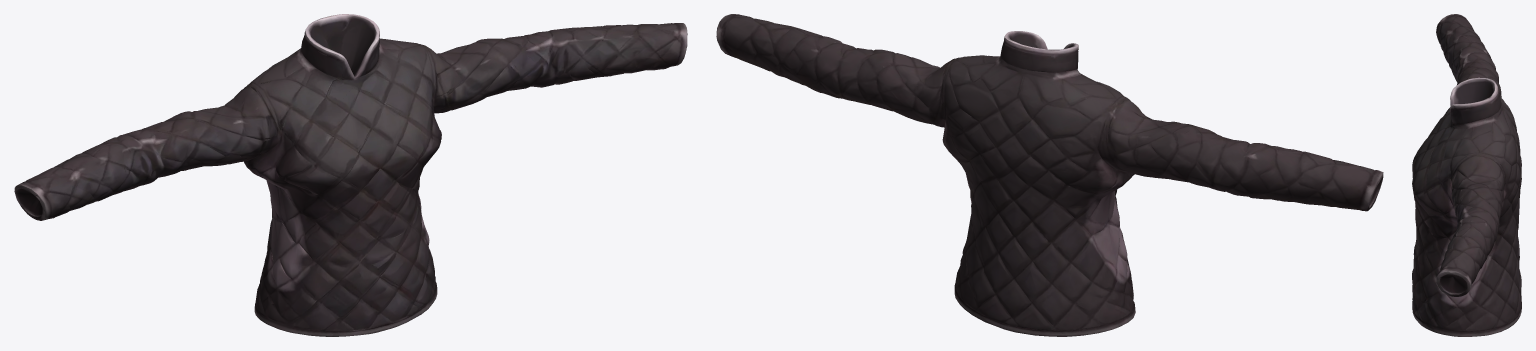
The model's file is warrior_f_undershirt.glb.
3 renders of one model, left to right at view 1: azimuth 30°, elevation 25°; view 2: azimuth 150°, elevation 25°; view 3: azimuth 270°, elevation 25°, orthographic. The views are drawn at different scales.
Parts seen in each view (by area): view 1: model; view 2: model; view 3: model.
Part boxes in pixels (bbox=[...]): model: bbox=[14, 14, 687, 336]; model: bbox=[716, 14, 1383, 336]; model: bbox=[1412, 14, 1521, 336].
Bounding box in the file's own units: 1.46 × 0.5799 × 0.2611.
1 material, 1 textured.
